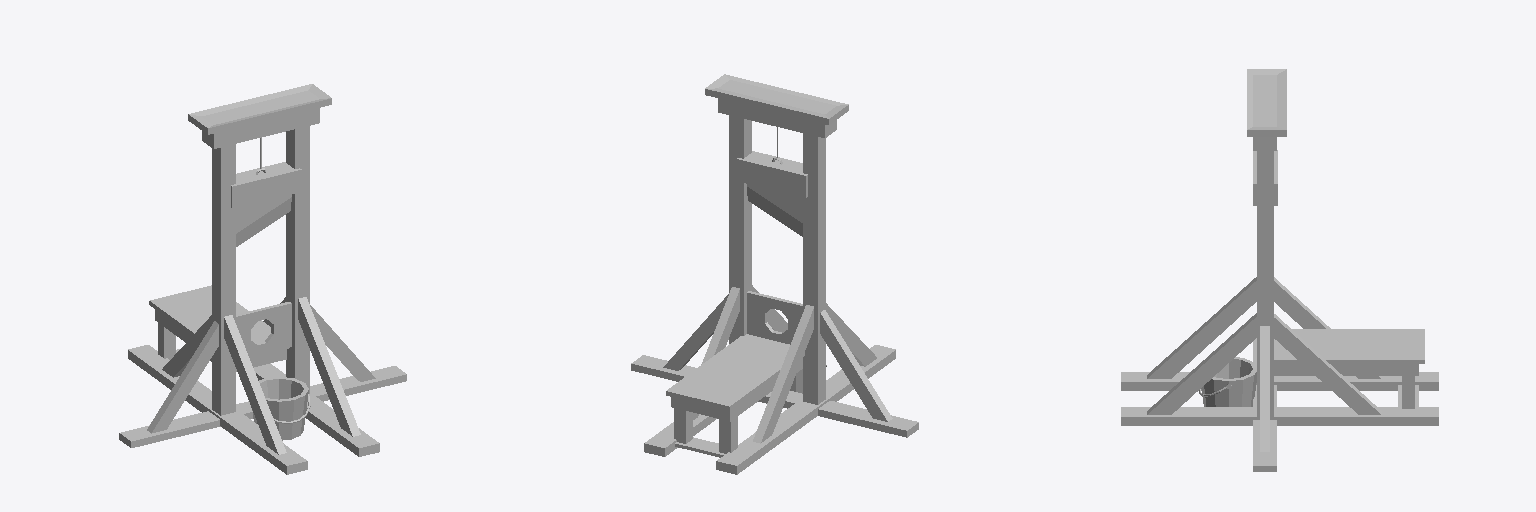
Rendered from Guillotine.obj.
3 views of the same model, side by side, from view 1: azimuth 30°, elevation 25°; view 2: azimuth 150°, elevation 25°; view 3: azimuth 270°, elevation 25° (orthographic).
Parts seen in each view (by area): view 1: pCube36; view 2: pCube36; view 3: pCube36.
Part boxes in pixels (x1,y1,x2,y2): pCube36: (119,84,406,474); pCube36: (631,74,918,474); pCube36: (1121,69,1438,471).
Size of the model in its own units: 12.93 by 13.9 by 12.93.